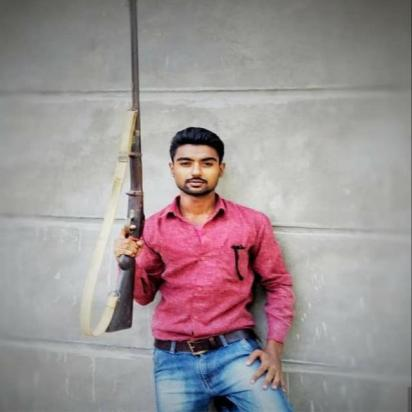Gun: (100, 0, 149, 334)
